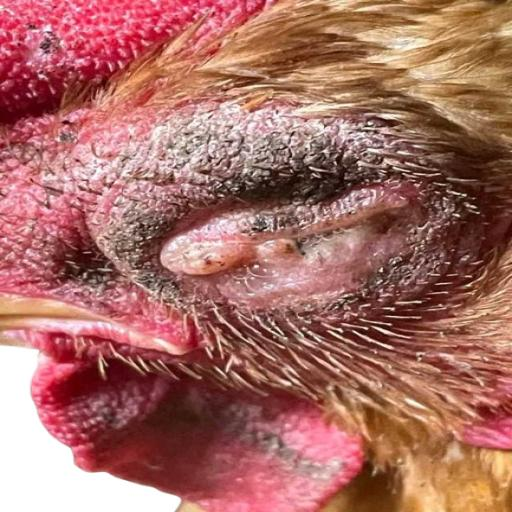disease: (94, 98, 468, 324), (13, 16, 93, 93)
